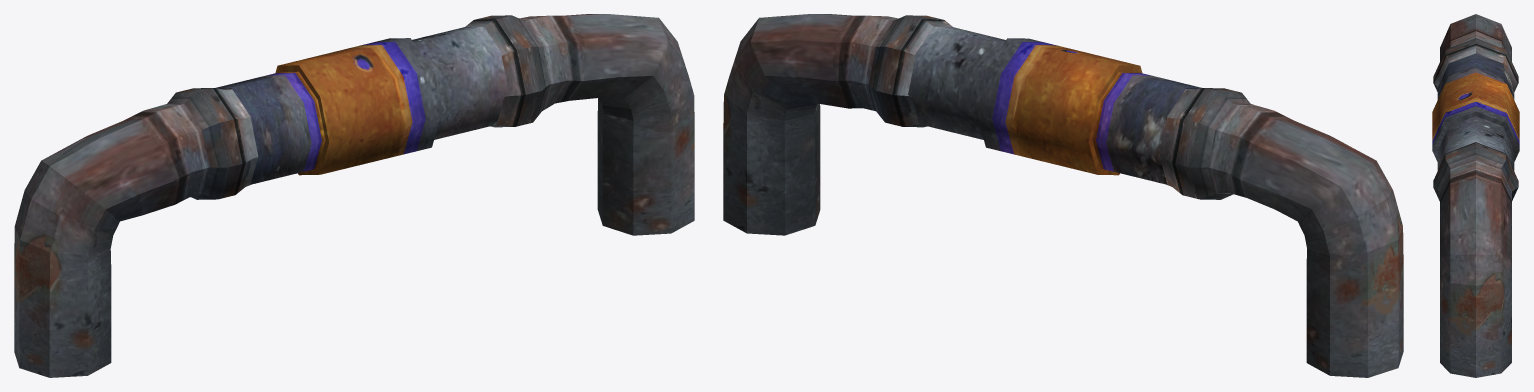
The model's file is desert_pollution_N_pipe.FBX.
The picture shows the model from 3 angles, left to right: view 1: azimuth 30°, elevation 25°; view 2: azimuth 150°, elevation 25°; view 3: azimuth 270°, elevation 25°; orthographic projection. The views are drawn at different scales.
Visible parts, largest first — view 1: Cylinder030; view 2: Cylinder030; view 3: Cylinder030.
Part boxes in pixels (<box>): Cylinder030: <box>14,14,694,377</box>; Cylinder030: <box>723,14,1403,377</box>; Cylinder030: <box>1432,14,1519,377</box>.
Size of the model in its own units: 59.71 by 19.97 by 9.35.
